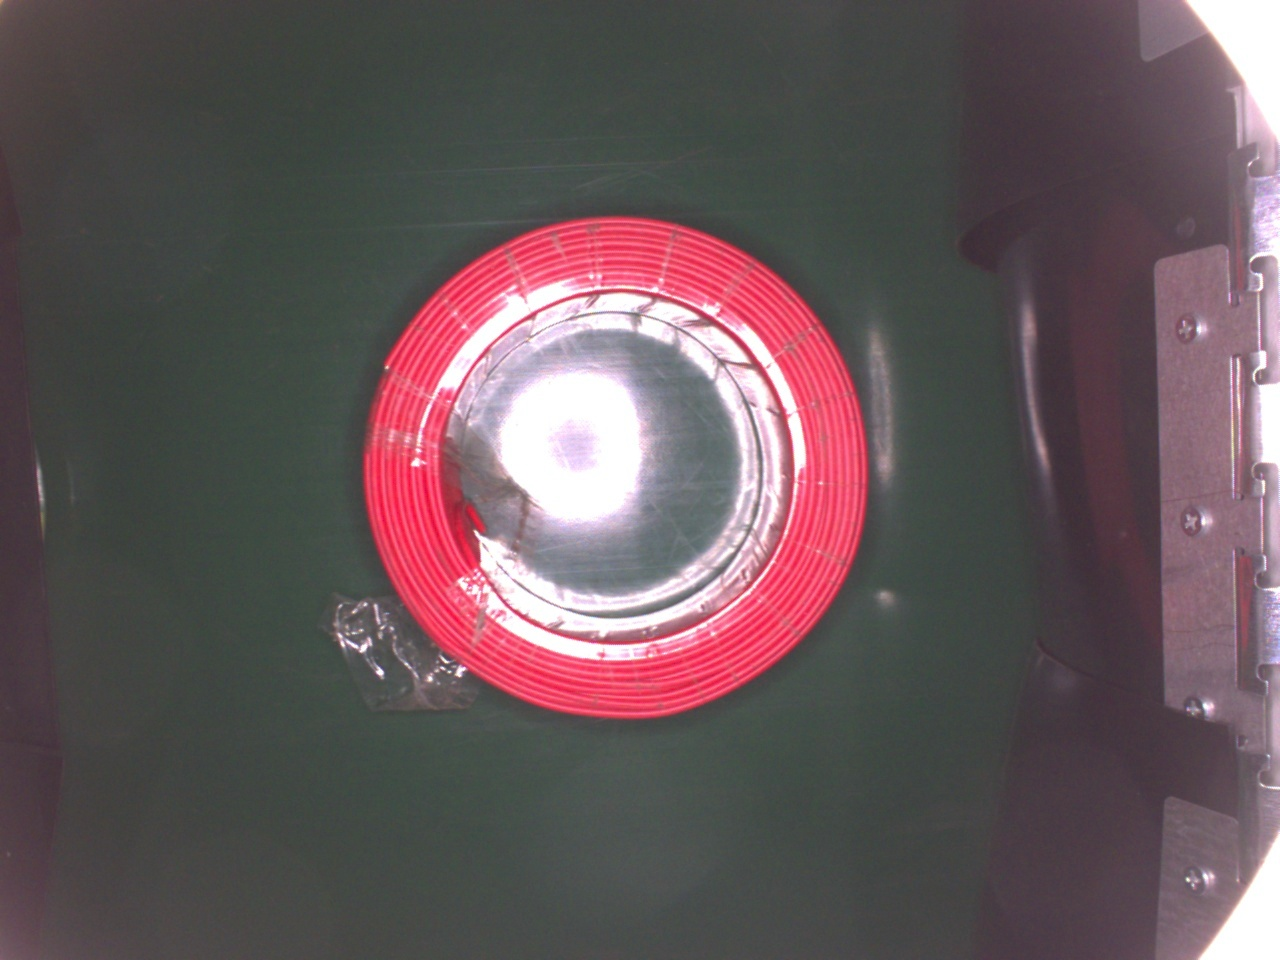red: (352, 205, 874, 721)
